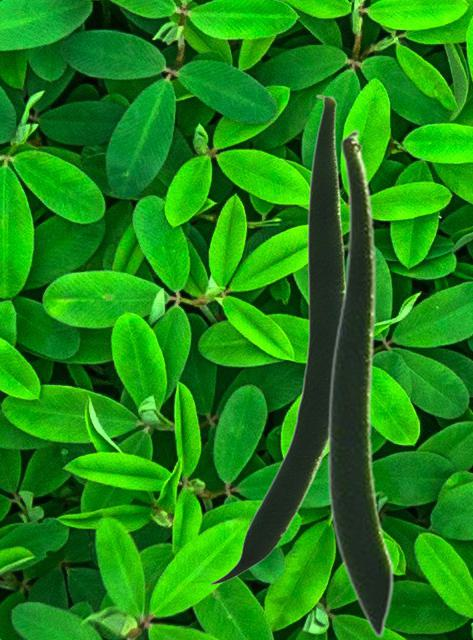french_bean: (208, 94, 345, 584), (326, 128, 394, 638)
